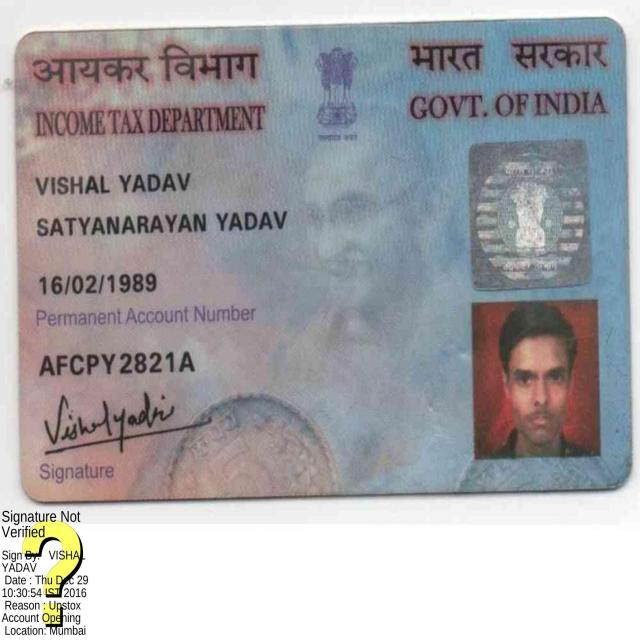pan_card: (19, 21, 627, 494)
